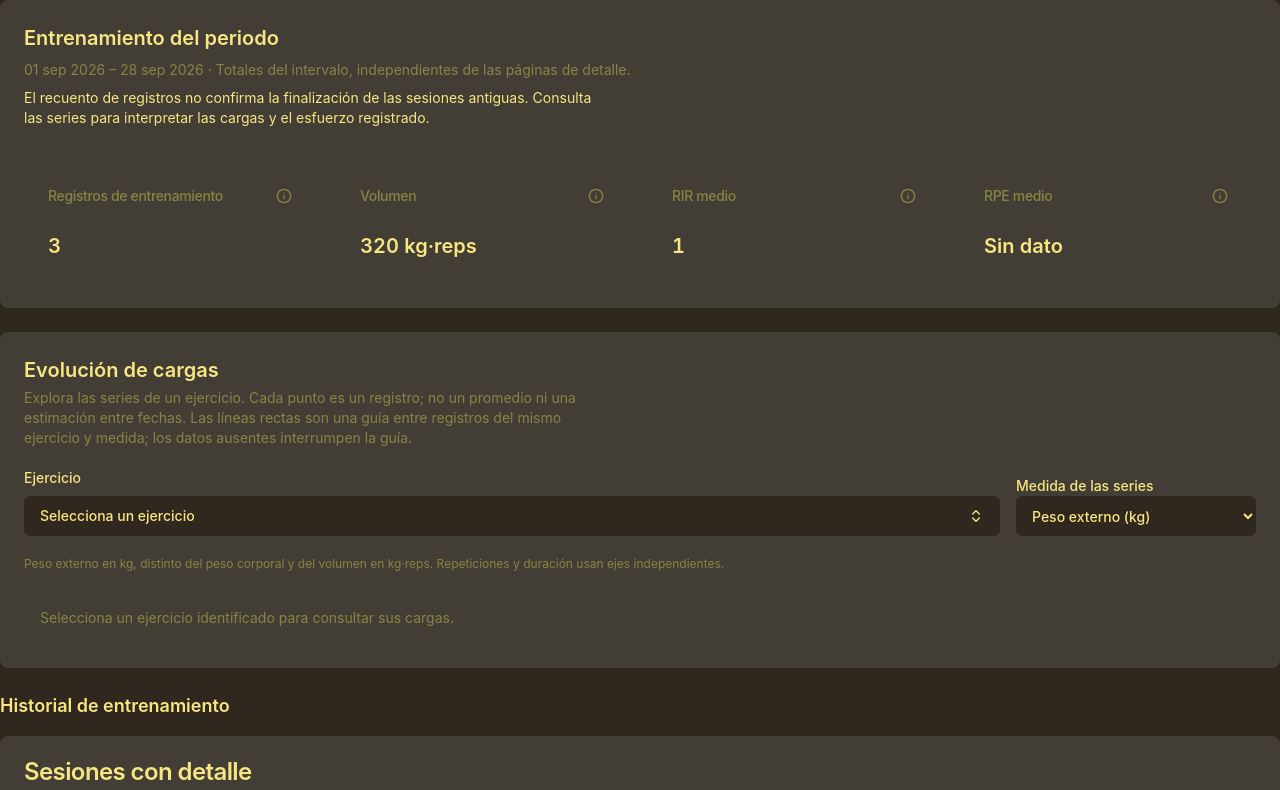
it: keeps all-null series available without drawing a zero load or claiming a trend
Click the dropdown named "Ejercicio para evolución de cargas": [117, 516] box [24,496,1000,536]
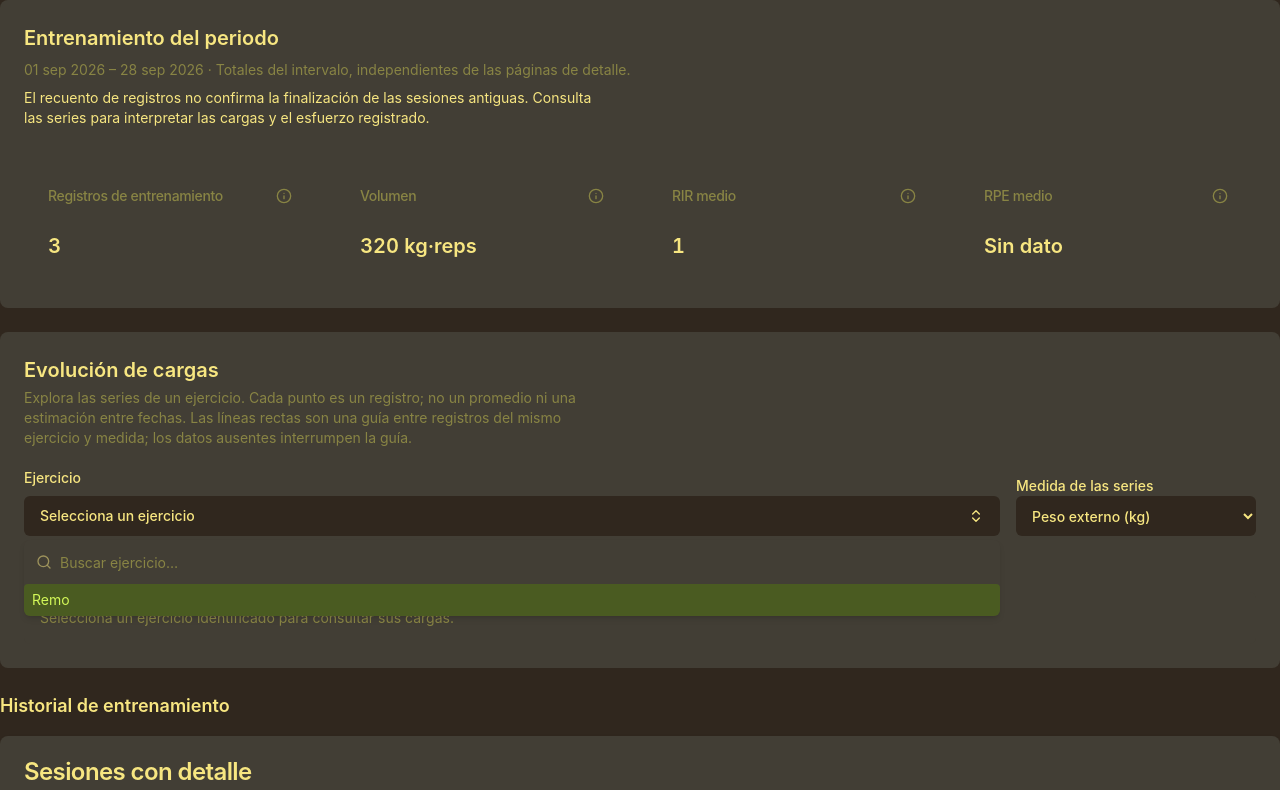
Click the option "Remo": [51, 600] box [24,584,1000,616]
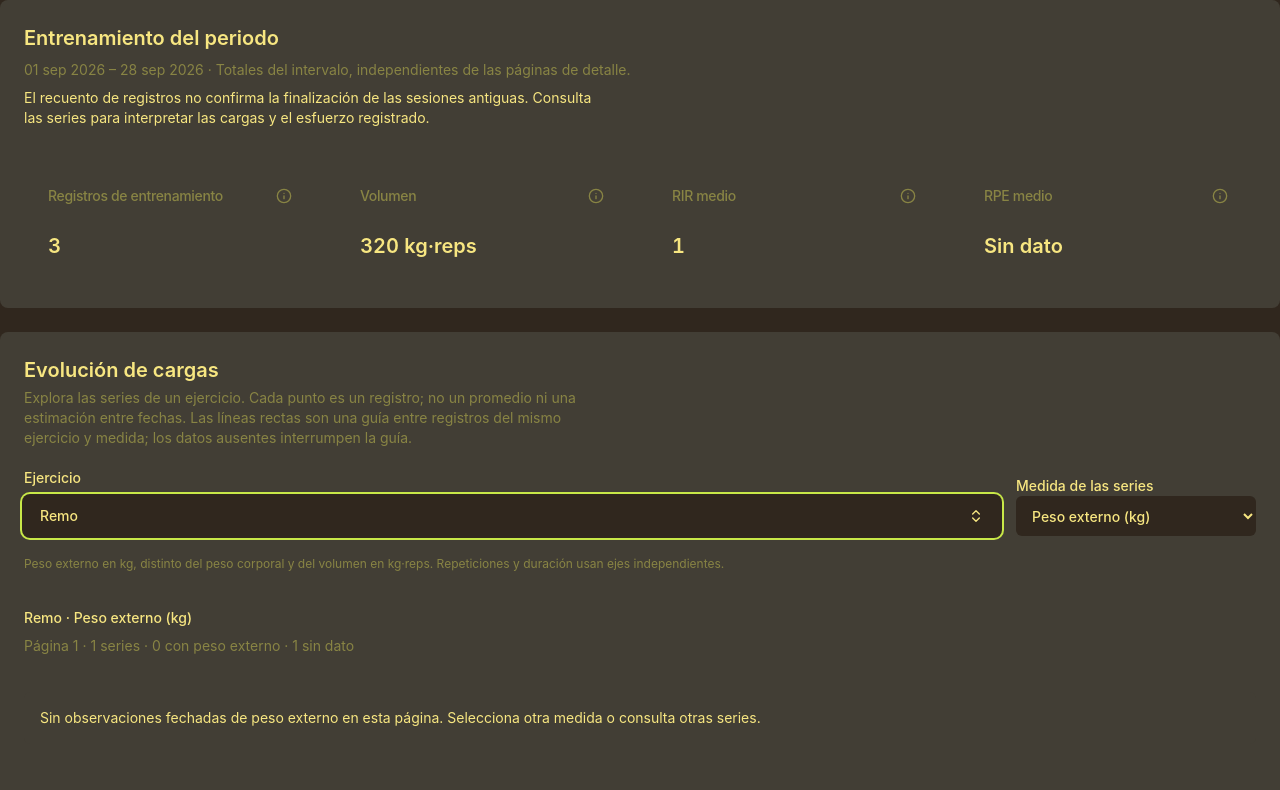
Result: the text "Sin observaciones fechadas de peso externo" is shown at [24,692,1256,744]
